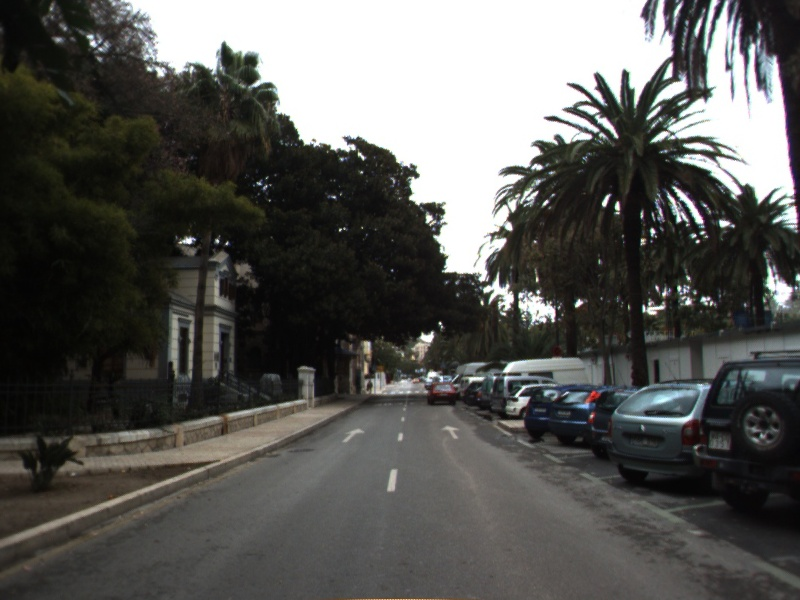STRAIGHT: (340, 426, 367, 444), (438, 423, 463, 441)
